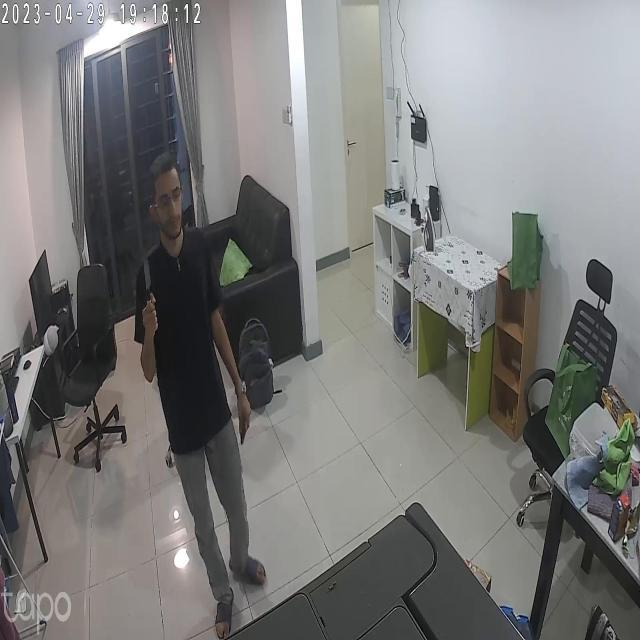Knife: (138, 248, 164, 322)
